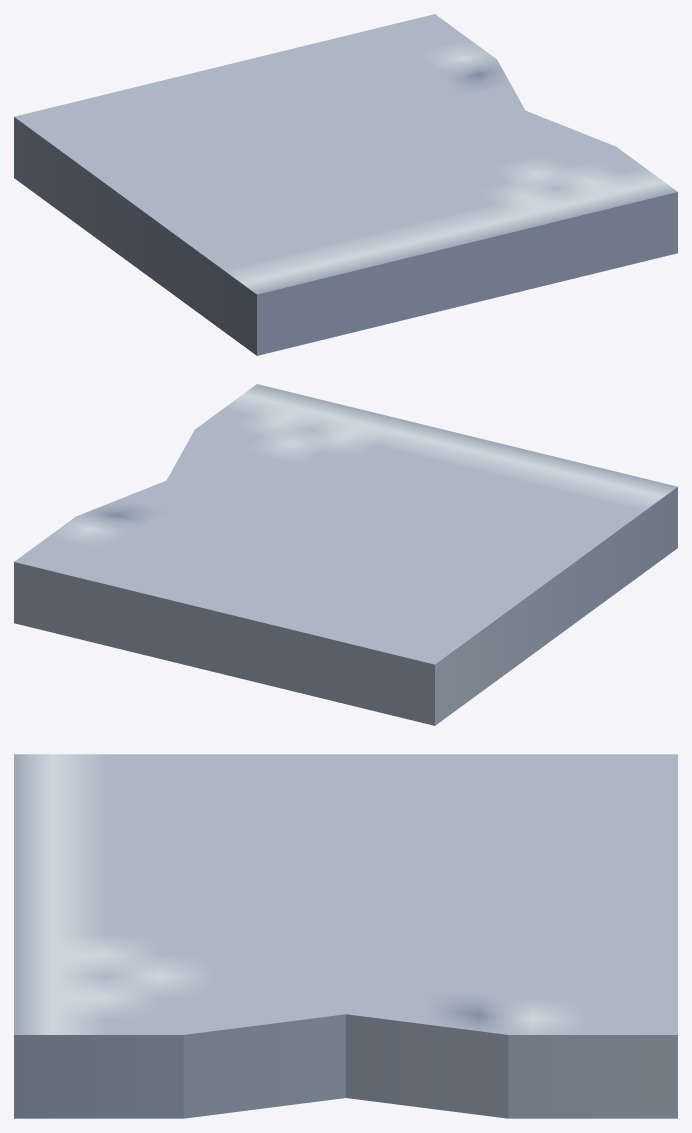
File: PisoPequenoQuebrado.fbx
3 renders of one model, top to bottom at view 1: azimuth 30°, elevation 25°; view 2: azimuth 150°, elevation 25°; view 3: azimuth 270°, elevation 25°, orthographic. The views are drawn at different scales.
Visible parts, largest first — view 1: Plane.006; view 2: Plane.006; view 3: Plane.006.
Part boxes in pixels (left/top/right/bottom): Plane.006: left=14, top=14, right=677, bottom=355; Plane.006: left=14, top=384, right=677, bottom=725; Plane.006: left=14, top=754, right=677, bottom=1118.
Bounding box in the file's own units: 110 × 110 × 15.31.
